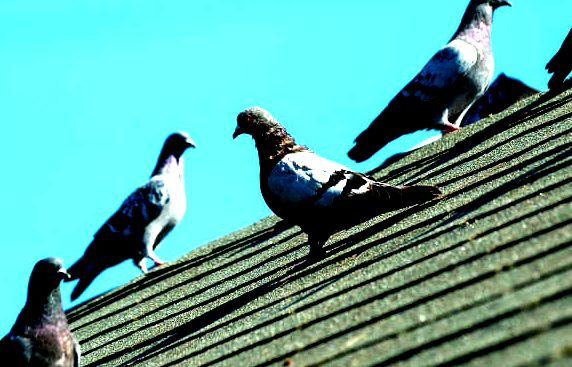Bird: (227, 103, 445, 269), (347, 1, 516, 167), (58, 128, 200, 306), (1, 254, 85, 363)
